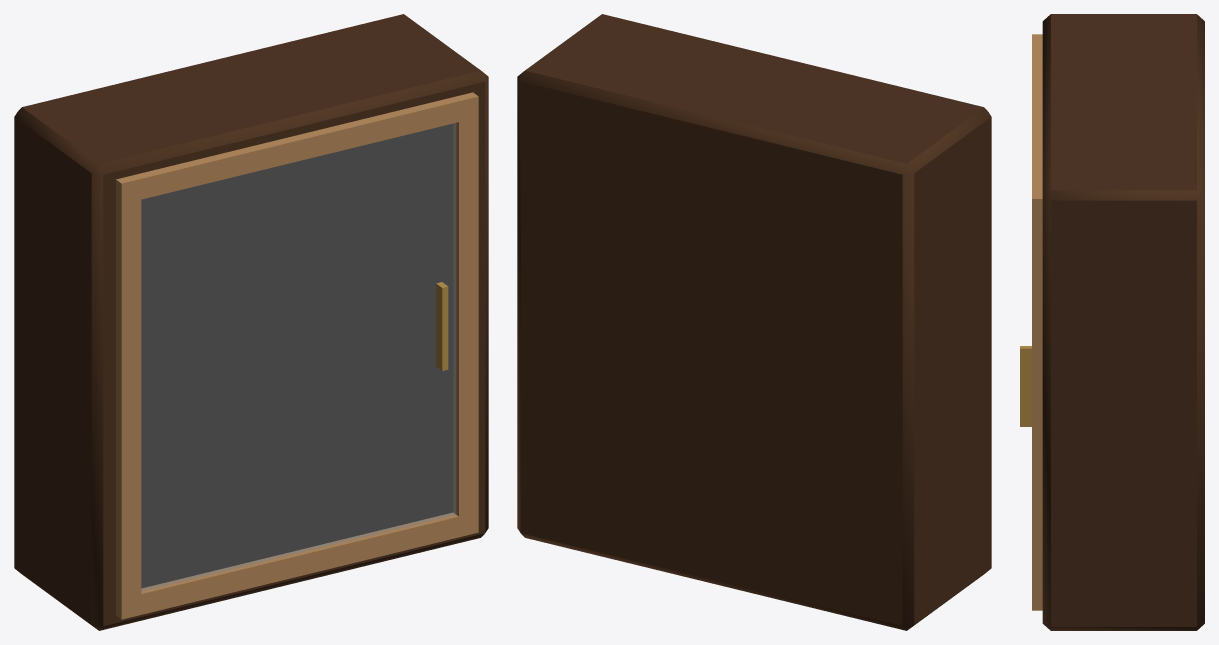
File: locker_display_cabinet.glb
3 views of the same model, side by side, from view 1: azimuth 30°, elevation 25°; view 2: azimuth 150°, elevation 25°; view 3: azimuth 270°, elevation 25° (orthographic). The views are drawn at different scales.
Parts seen in each view (by area): view 1: locker_display_cabinet; view 2: locker_display_cabinet; view 3: locker_display_cabinet.
Boxes of the visible parts, left/top/right/bottom form: locker_display_cabinet: left=14, top=14, right=488, bottom=630; locker_display_cabinet: left=517, top=14, right=991, bottom=630; locker_display_cabinet: left=1020, top=14, right=1204, bottom=630.
Size of the model in its own units: 0.8 by 0.9 by 0.342.
